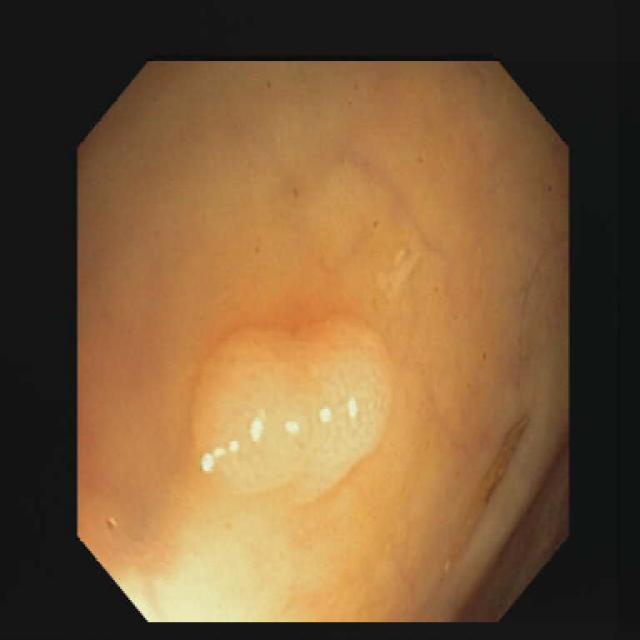tumor: (192, 313, 395, 496)
